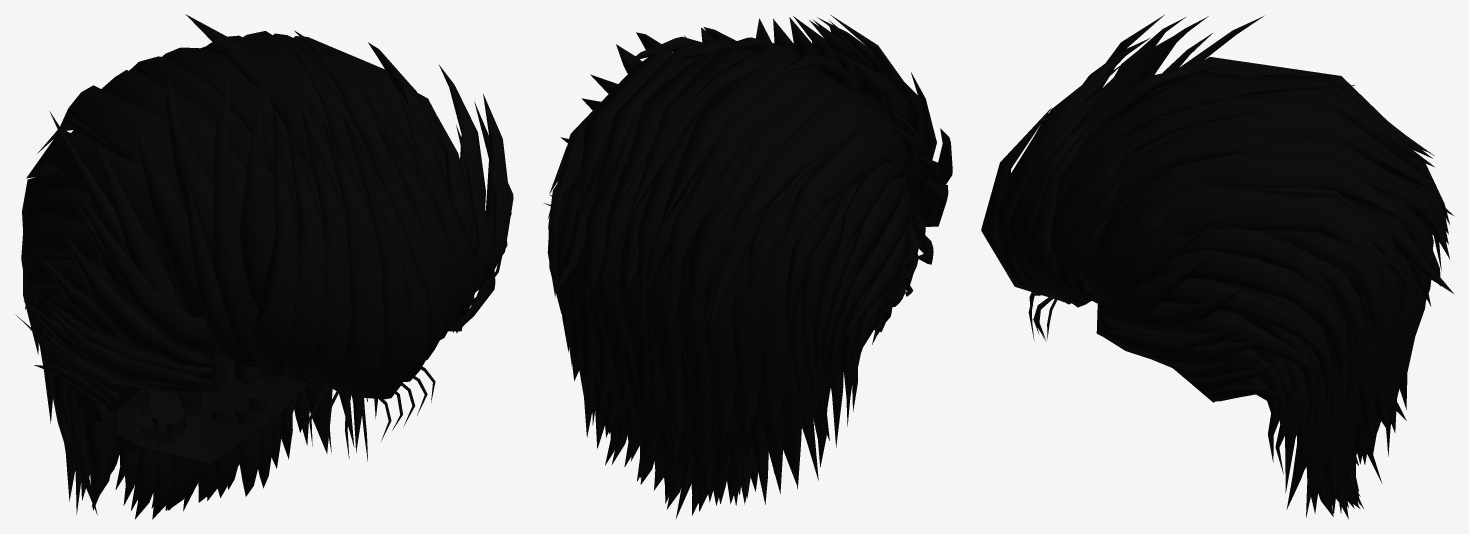
Rendered from YusukeHair1 1.fbx.
3 views of the same model, side by side, from view 1: azimuth 30°, elevation 25°; view 2: azimuth 150°, elevation 25°; view 3: azimuth 270°, elevation 25° (orthographic). The views are drawn at different scales.
Visible parts, largest first — view 1: YusukeHair1; view 2: YusukeHair1; view 3: YusukeHair1.
Boxes of the visible parts, x1=… form: YusukeHair1: x1=15, y1=14, x2=513, y2=519; YusukeHair1: x1=543, y1=15, x2=952, y2=518; YusukeHair1: x1=981, y1=15, x2=1453, y2=519.
Size of the model in its own units: 20.81 by 24.68 by 22.68.
